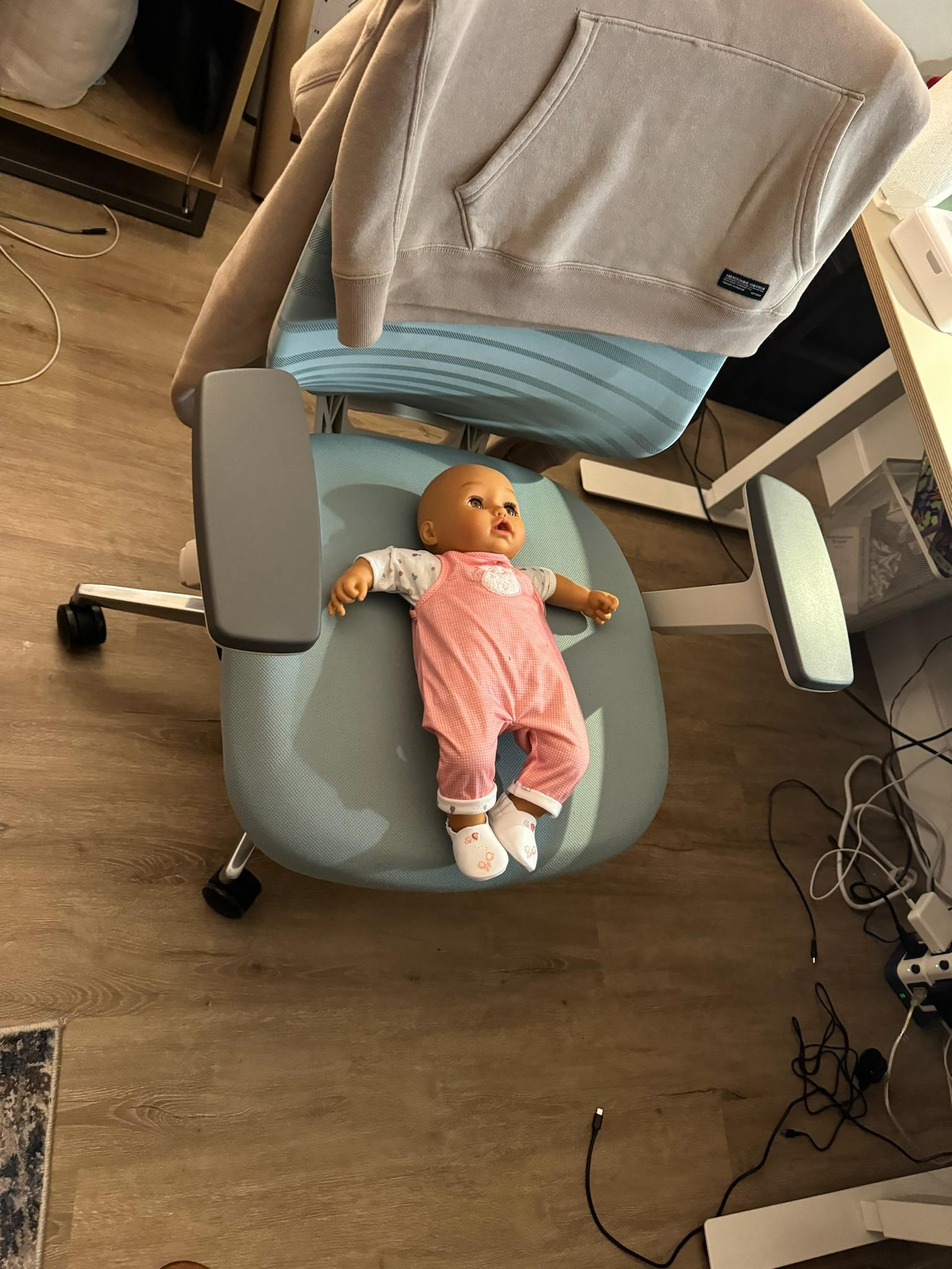baby: (328, 454, 645, 901)
